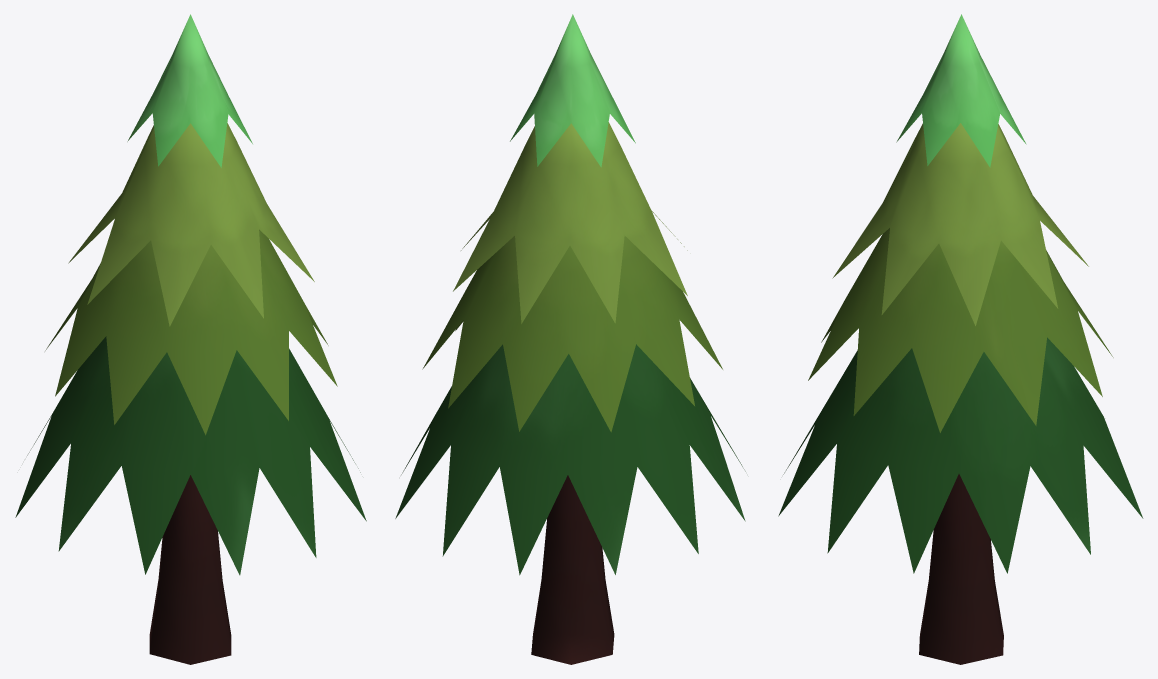
The model's file is Tree2@Model.fbx.
3 renders of one model, left to right at view 1: azimuth 30°, elevation 25°; view 2: azimuth 150°, elevation 25°; view 3: azimuth 270°, elevation 25°, orthographic.
Parts seen in each view (by area): view 1: Tree2; view 2: Tree2; view 3: Tree2.
Part boxes in pixels (box(x1,y1,x2,y2)): Tree2: box(15, 14, 366, 664); Tree2: box(395, 14, 745, 664); Tree2: box(778, 14, 1143, 664).
Size of the model in its own units: 223 by 443 by 233.
